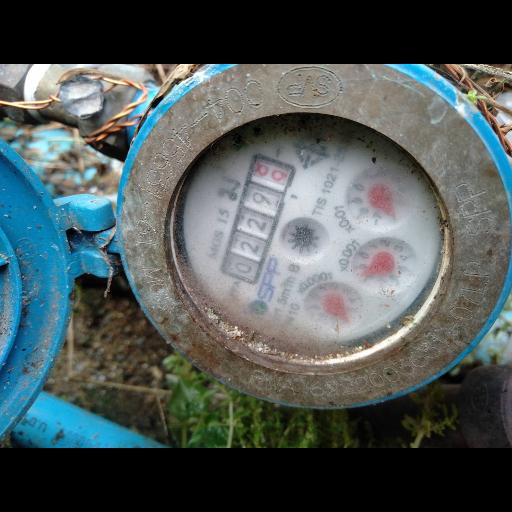0: (224, 254, 259, 280)
2: (229, 232, 267, 263), (237, 209, 273, 239)
9: (243, 184, 283, 218), (251, 160, 292, 193)
border_water_meter_number: (218, 152, 297, 287)
